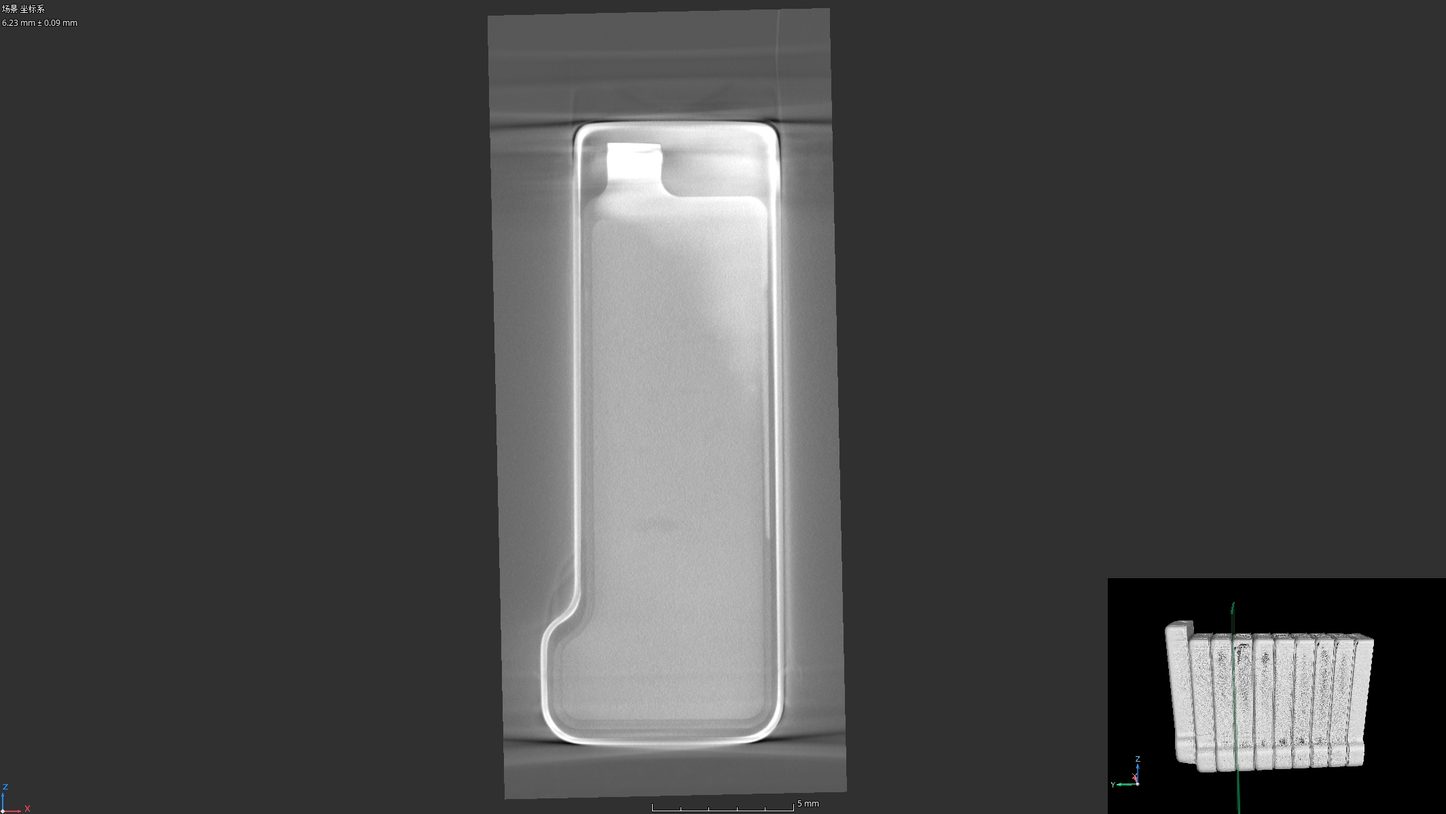dark: (637, 513, 679, 535)
